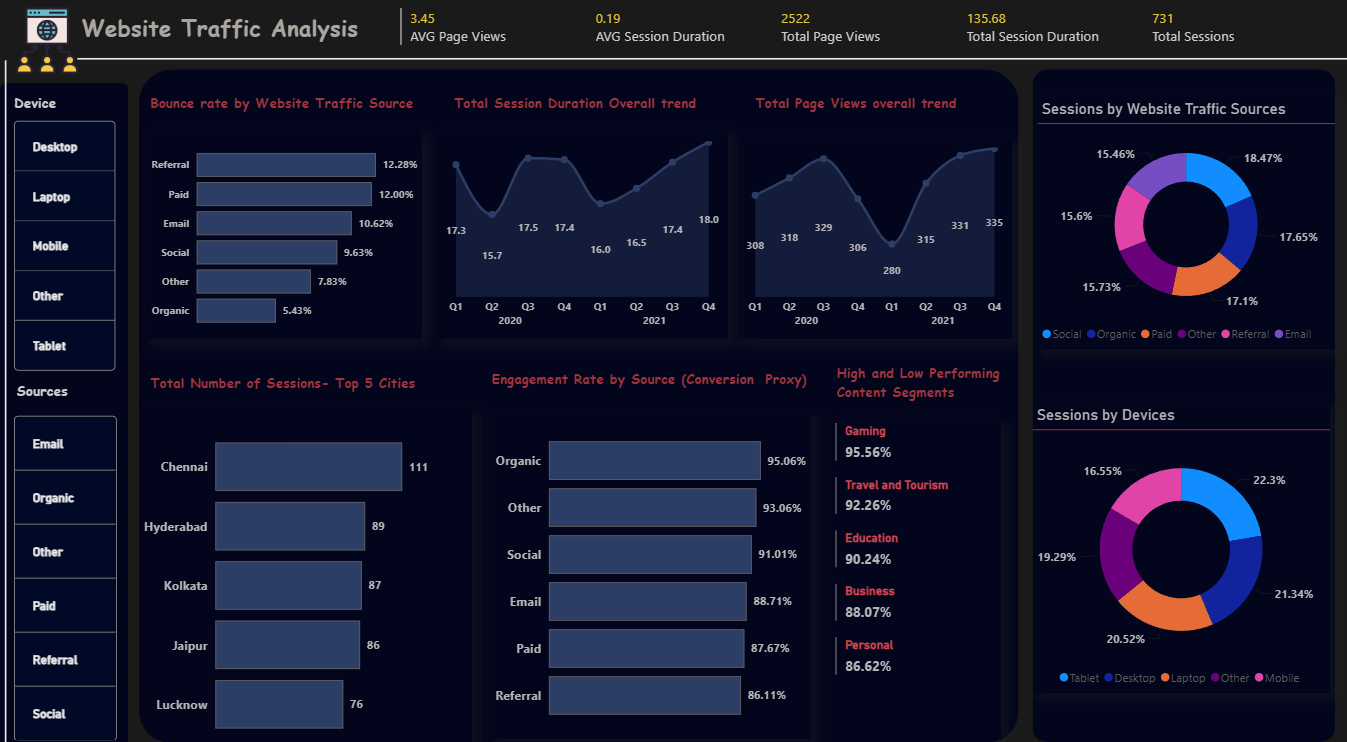

The dashboard page shown, as its layout file describes it:
{"tool":"powerbi","page":{"name":"final Dashboard","canvas":[1600,884],"ordinal":0},"visuals":[{"type":"shape","box":[0,101,152.3,799.3],"z":0},{"type":"multiRowCard","fields":{"Values":["Calculations.Average Page Views","Calculations.Average Session Duration","Calculations.Total Page Views","Calculations.Total Session Duration","Calculations.Total Sessions"]},"box":[469.2,6.7,1120.6,65.7],"z":1000},{"type":"shape","box":[91.4,55.4,1508.6,34.5],"z":2000},{"type":"shape","box":[0,74.1,13.3,808.8],"z":3000},{"type":"image","box":[12,0,88.4,100.4],"z":4000},{"type":"textbox","box":[91.4,10.5,358.1,56.9],"z":5000},{"type":"shape","box":[164.4,84.4,1042.8,799.9],"z":6000},{"type":"shape","box":[1223.5,84.4,358.5,798.4],"z":7000},{"type":"clusteredBarChart","fields":{"Category":["web_traffic_analysis geo_lookup.City"],"Y":["Calculations.Total Sessions"]},"box":[164.4,485.6,395.1,414.7],"z":8000},{"type":"textbox","box":[230.7,98.9,328.1,33],"z":9000},{"type":"textbox","box":[533.2,108.1,328.8,32.6],"z":10000},{"type":"textbox","box":[890.2,108.1,293.3,41.5],"z":11000},{"type":"textbox","box":[577.6,435.8,386.1,48.3],"z":12000},{"type":"advancedSlicerVisual","fields":{"Values":["web_traffic_analysis device_lookup.Device_Type"]},"box":[11.8,140.7,130.3,308.1],"z":13000},{"type":"advancedSlicerVisual","fields":{"Values":["web_traffic_analysis source_lookup.Website_Traffic_Sources"]},"box":[11.8,490.3,131.8,398.5],"z":14000},{"type":"textbox","box":[12,107.9,115.4,33],"z":15000},{"type":"textbox","box":[14.8,448.8,128.9,37],"z":16000},{"type":"clusteredBarChart","fields":{"Y":["Calculations.Engagement Rate"],"Category":["web_traffic_analysis source_lookup.Website_Traffic_Sources"]},"box":[580.6,490.1,380,387.6],"z":17000},{"type":"textbox","box":[173.3,439.9,397,47.4],"z":18000},{"type":"multiRowCard","title":"Bouncemmmknbytent Segment","fields":{"Values":["web_traffic_analysis device_lookup.Content_Segment","Calculations.Engagement Rate"]},"box":[984.8,499.2,200.6,392.1],"z":19000},{"type":"textbox","box":[986.3,428.3,212.6,61.8],"z":20000},{"type":"clusteredBarChart","title":"Bounce Rate by Website Traffic Sources","fields":{"Category":["web_traffic_analysis source_lookup.Website_Traffic_Sources"],"Y":["Calculations.Bounce Rate"]},"box":[173.3,157,327.4,247.4],"z":21000},{"type":"stackedAreaChart","fields":{"Category":["Date Table.Year","Date Table.Quarter"],"Y":["Calculations.Total Session Duration"]},"box":[518.4,157,343.6,247.4],"z":22000},{"type":"stackedAreaChart","fields":{"Category":["Date Table.Year","Date Table.Quarter"],"Y":["Calculations.Total Page Views"]},"box":[873.9,164.4,325.9,240],"z":23000},{"type":"textbox","box":[173.3,108.1,345.1,34.1],"z":24000},{"type":"donutChart","title":"Sessions by Website Traffic Sources","fields":{"Category":["web_traffic_analysis source_lookup.Website_Traffic_Sources"],"Y":["Calculations.Total Sessions"]},"box":[1229.4,115.5,352.5,300.7],"z":25000},{"type":"donutChart","title":"Sessions by Devices","fields":{"Y":["Calculations.Total Sessions"],"Category":["web_traffic_analysis device_lookup.Device_Type"]},"box":[1223.5,478.4,352.5,345.1],"z":26000}]}

Visuals, with their boxes in screenshot pixels (x1, y1, x2, y2), scaled from the page's 1600x884 canvas onto the 1347x742 screenshot:
shape: (0,85,128,741)
multiRowCard - Calculations.Average Page Views x Calculations.Average Session Duration: (395,6,1338,61)
shape: (77,47,1346,75)
shape: (0,62,11,741)
image: (10,0,85,84)
textbox: (77,9,378,57)
shape: (138,71,1016,741)
shape: (1030,71,1332,741)
clusteredBarChart - web_traffic_analysis geo_lookup.City x Calculations.Total Sessions: (138,408,471,741)
textbox: (194,83,470,111)
textbox: (449,91,726,118)
textbox: (749,91,996,126)
textbox: (486,366,811,406)
advancedSlicerVisual - web_traffic_analysis device_lookup.Device_Type: (10,118,120,377)
advancedSlicerVisual - web_traffic_analysis source_lookup.Website_Traffic_Sources: (10,412,121,741)
textbox: (10,91,107,118)
textbox: (12,377,121,408)
clusteredBarChart - Calculations.Engagement Rate x web_traffic_analysis source_lookup.Website_Traffic_Sources: (489,411,809,737)
textbox: (146,369,480,409)
"Bouncemmmknbytent Segment" multiRowCard: (829,419,998,741)
textbox: (830,360,1009,411)
"Bounce Rate by Website Traffic Sources" clusteredBarChart: (146,132,422,339)
stackedAreaChart - Date Table.Year x Date Table.Quarter: (436,132,726,339)
stackedAreaChart - Date Table.Year x Date Table.Quarter: (736,138,1010,339)
textbox: (146,91,436,119)
"Sessions by Website Traffic Sources" donutChart: (1035,97,1332,349)
"Sessions by Devices" donutChart: (1030,402,1327,691)
